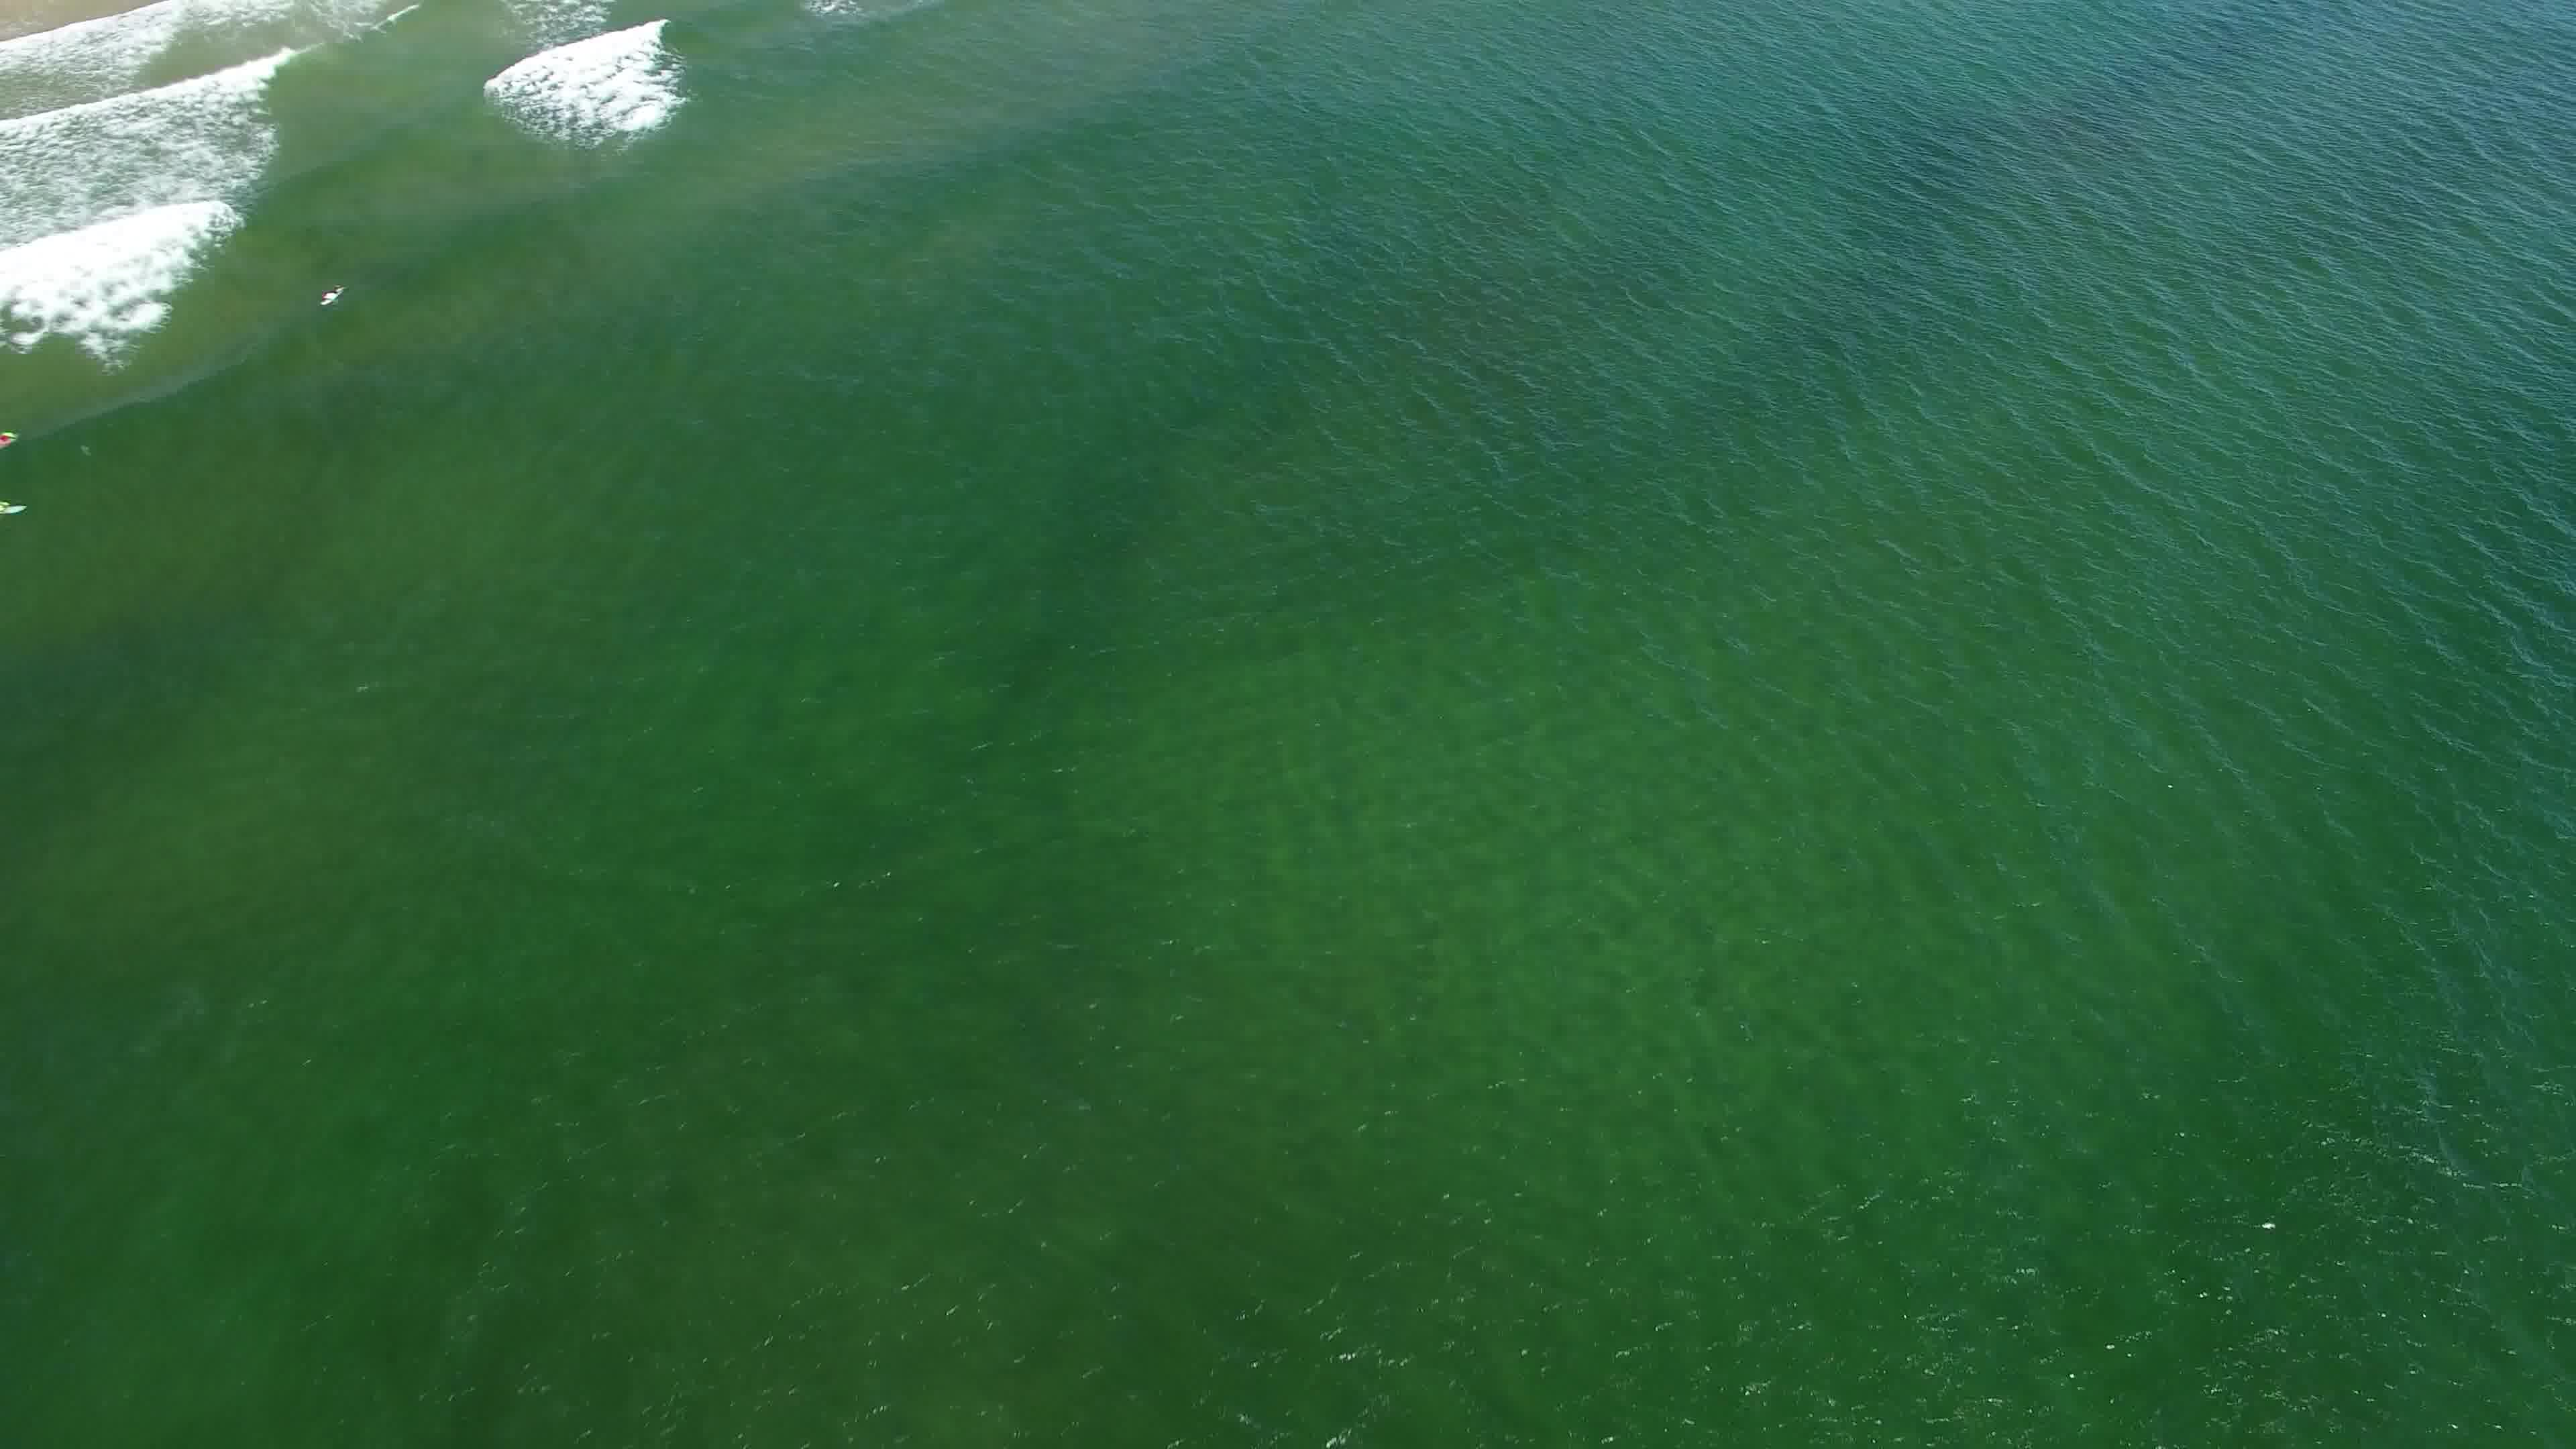surfer: (313, 276, 354, 311), (0, 497, 34, 525)
